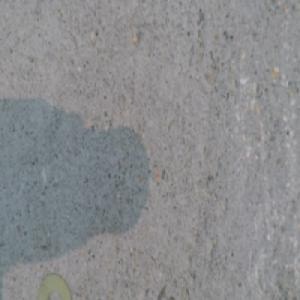Washer: (38, 274, 70, 298)
